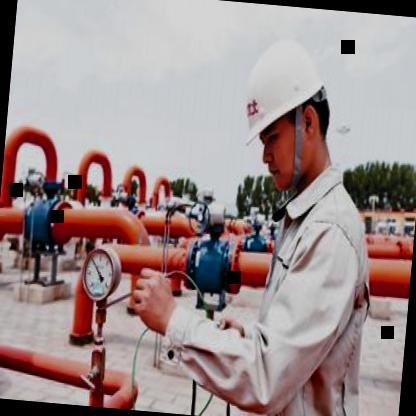helmet: (224, 18, 350, 204)
